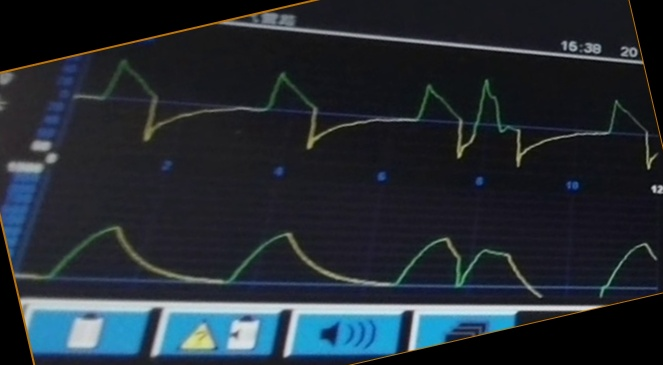Double_Triggering Flow: (111, 65, 640, 166)
Double_Triggering Volume: (58, 216, 655, 292)
